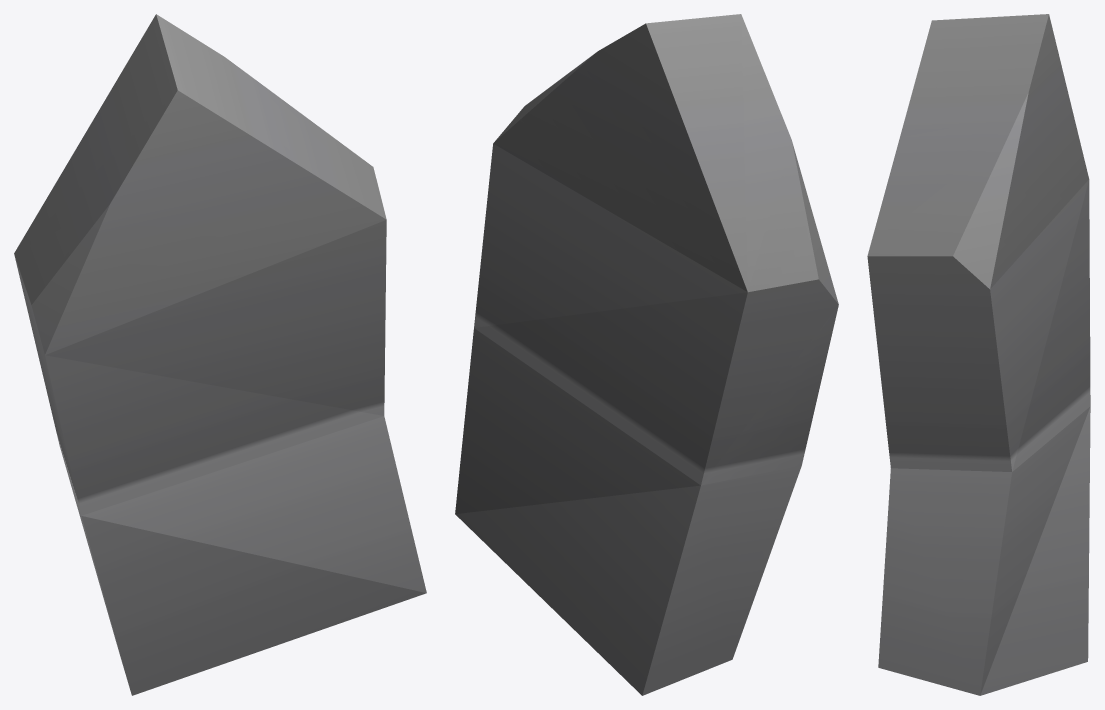
Rendered from ea_grave_stone_mini_01c_pre__31__lev1.glb.
3 renders of one model, left to right at view 1: azimuth 30°, elevation 25°; view 2: azimuth 150°, elevation 25°; view 3: azimuth 270°, elevation 25°, orthographic.
Visible parts, largest first — view 1: ea_grave_stone_mini_01c_pre__31__lev1; view 2: ea_grave_stone_mini_01c_pre__31__lev1; view 3: ea_grave_stone_mini_01c_pre__31__lev1.
Boxes of the visible parts, x1,y1,x2,y2 form: ea_grave_stone_mini_01c_pre__31__lev1: [14, 14, 426, 695]; ea_grave_stone_mini_01c_pre__31__lev1: [455, 14, 838, 695]; ea_grave_stone_mini_01c_pre__31__lev1: [867, 14, 1090, 695].
Bounding box in the file's own units: 0.8533 × 1.41 × 0.4363.
1 material, 1 textured.
